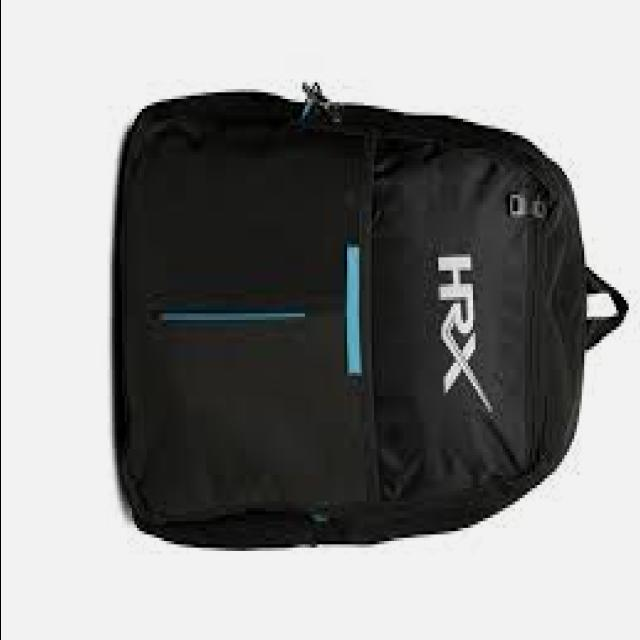backpack: (115, 80, 631, 552)
